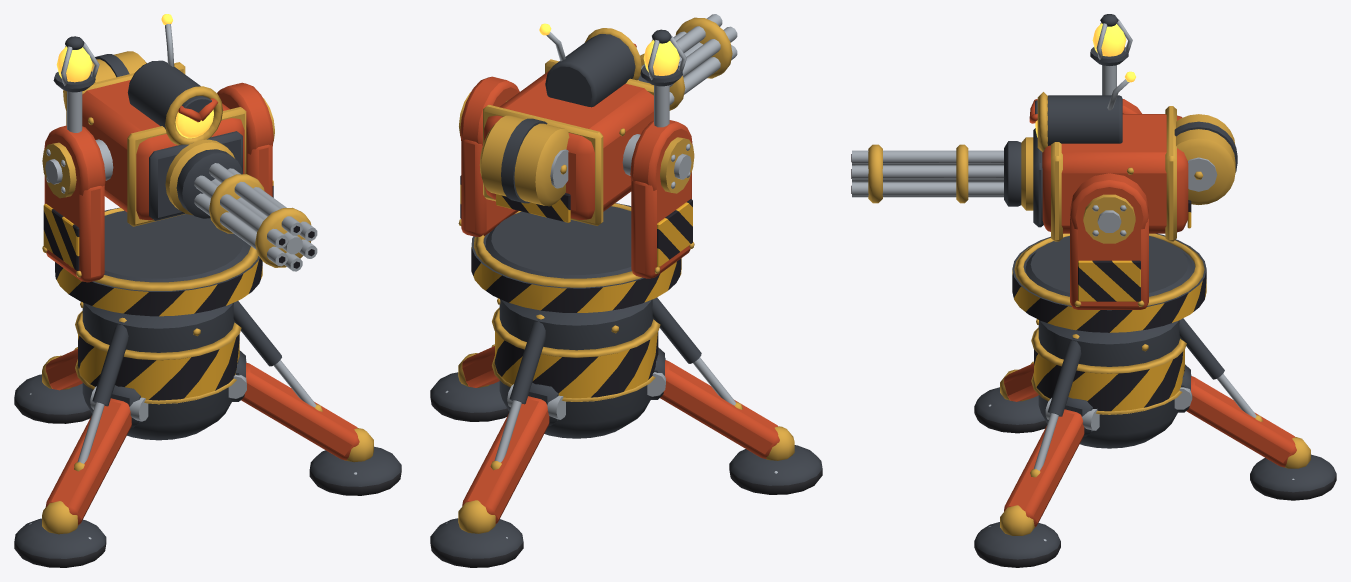
The model's file is enemy_sentry.glb.
The picture shows the model from 3 angles, left to right: view 1: azimuth 30°, elevation 25°; view 2: azimuth 150°, elevation 25°; view 3: azimuth 270°, elevation 25°; orthographic projection. The views are drawn at different scales.
Parts seen in each view (by area): view 1: Base, Yaw, Pitch, Barrels, Lamp; view 2: Base, Yaw, Pitch, Barrels, Lamp; view 3: Base, Yaw, Pitch, Barrels, Lamp.
Part boxes in pixels (x1=…): Base: x1=14, y1=301, x2=401, y2=567; Yaw: x1=42, y1=36, x2=274, y2=316; Pitch: x1=63, y1=14, x2=246, y2=226; Barrels: x1=176, y1=149, x2=317, y2=271; Lamp: x1=56, y1=46, x2=92, y2=82; Base: x1=430, y1=297, x2=822, y2=567; Yaw: x1=458, y1=29, x2=694, y2=312; Pitch: x1=479, y1=23, x2=653, y2=225; Barrels: x1=638, y1=14, x2=737, y2=110; Lamp: x1=643, y1=40, x2=679, y2=75; Base: x1=974, y1=318, x2=1336, y2=567; Yaw: x1=1012, y1=14, x2=1206, y2=332; Pitch: x1=1021, y1=71, x2=1237, y2=241; Barrels: x1=851, y1=141, x2=1021, y2=206; Lamp: x1=1092, y1=23, x2=1126, y2=56.
Bounding box in the file's own units: 1.54 × 1.81 × 1.85.
